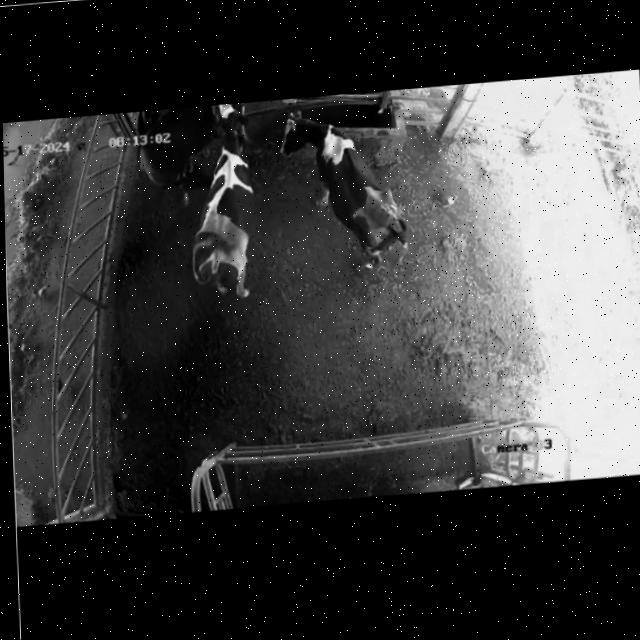stand: (276, 100, 412, 290), (187, 107, 262, 309), (131, 97, 224, 188)
